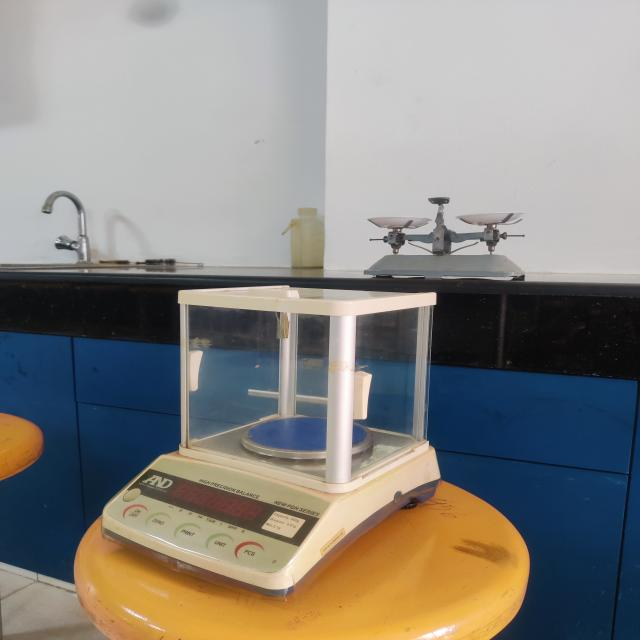Mechanical_Balance_Scale: (352, 181, 550, 294)
Precision_Weight_Scale: (73, 271, 463, 615)
